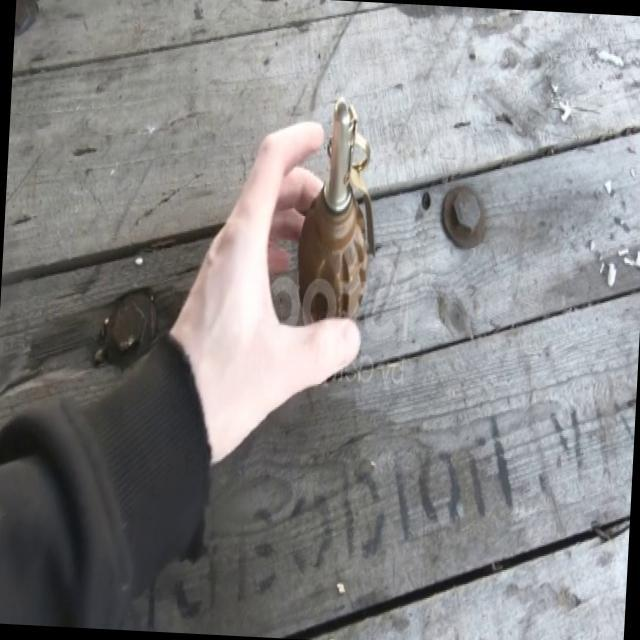grenade: (290, 98, 386, 352)
